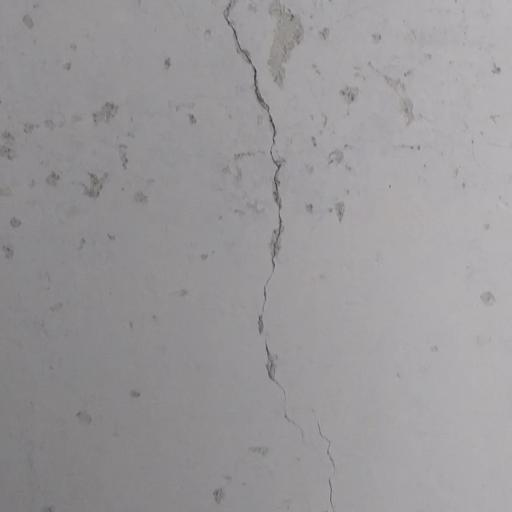minor_crack: (211, 0, 365, 512)
